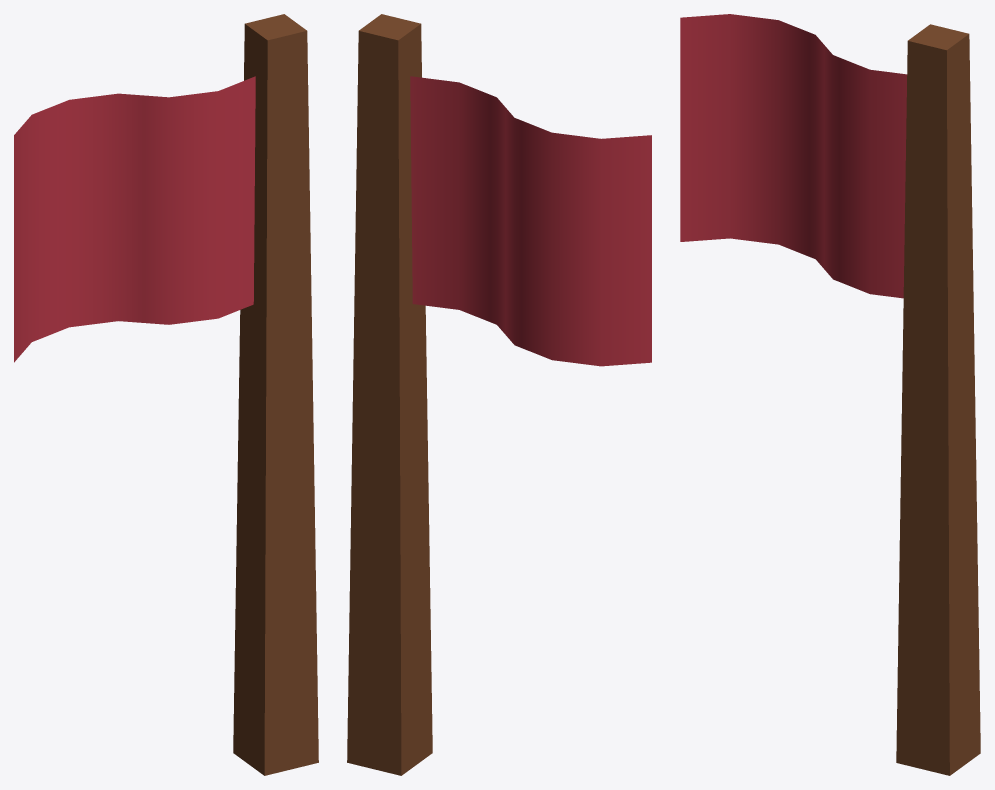
Rendered from flag.glb.
3 renders of one model, left to right at view 1: azimuth 30°, elevation 25°; view 2: azimuth 150°, elevation 25°; view 3: azimuth 330°, elevation 25°, orthographic.
Parts seen in each view (by area): view 1: flag; view 2: flag; view 3: flag.
Part boxes in pixels (x1,y1,x2,y2): flag: (14, 14, 318, 775); flag: (347, 14, 651, 775); flag: (680, 14, 980, 775).
Size of the model in its own units: 0.3726 by 0.9 by 0.085.
